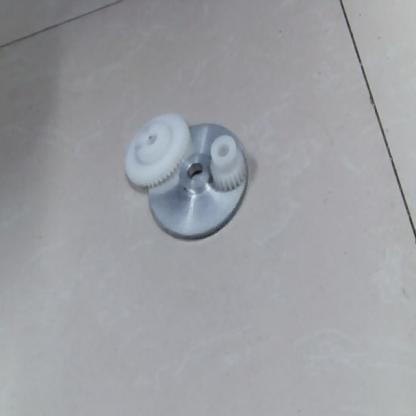FOD: (144, 115, 256, 246), (124, 108, 192, 192), (206, 131, 246, 192)
